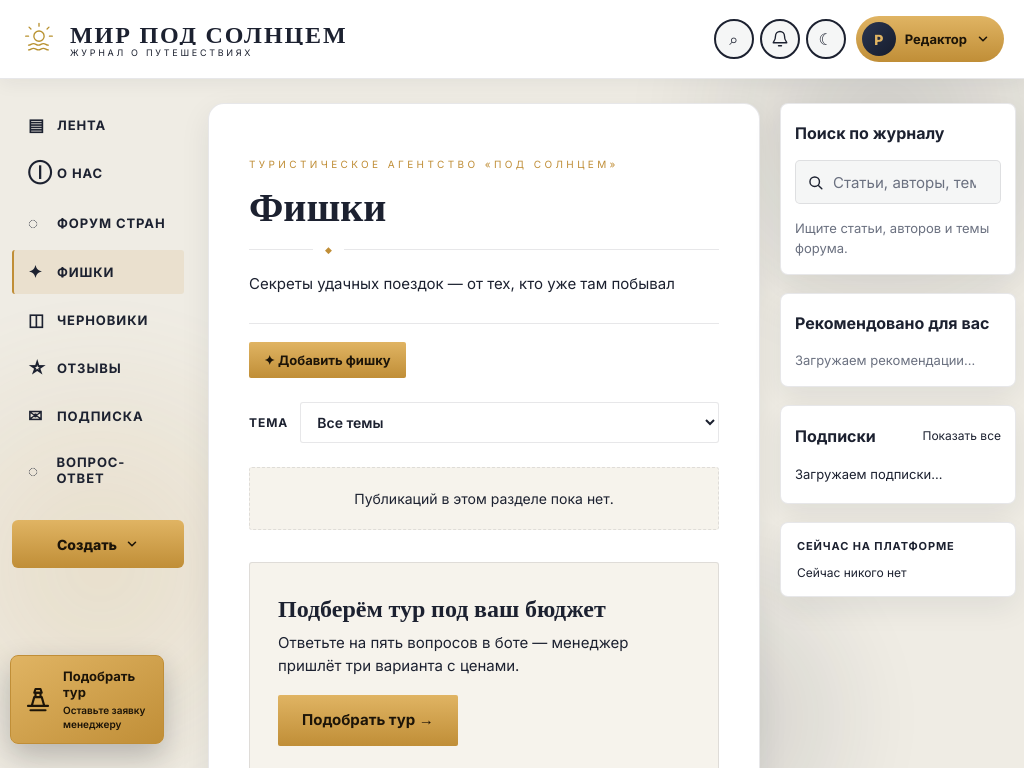
Test case: App pathname routing › offers all block emoji without removing visually similar Unicode variants
Click the button "✦ Добавить фишку" at (327, 360), box [249,342,406,378]
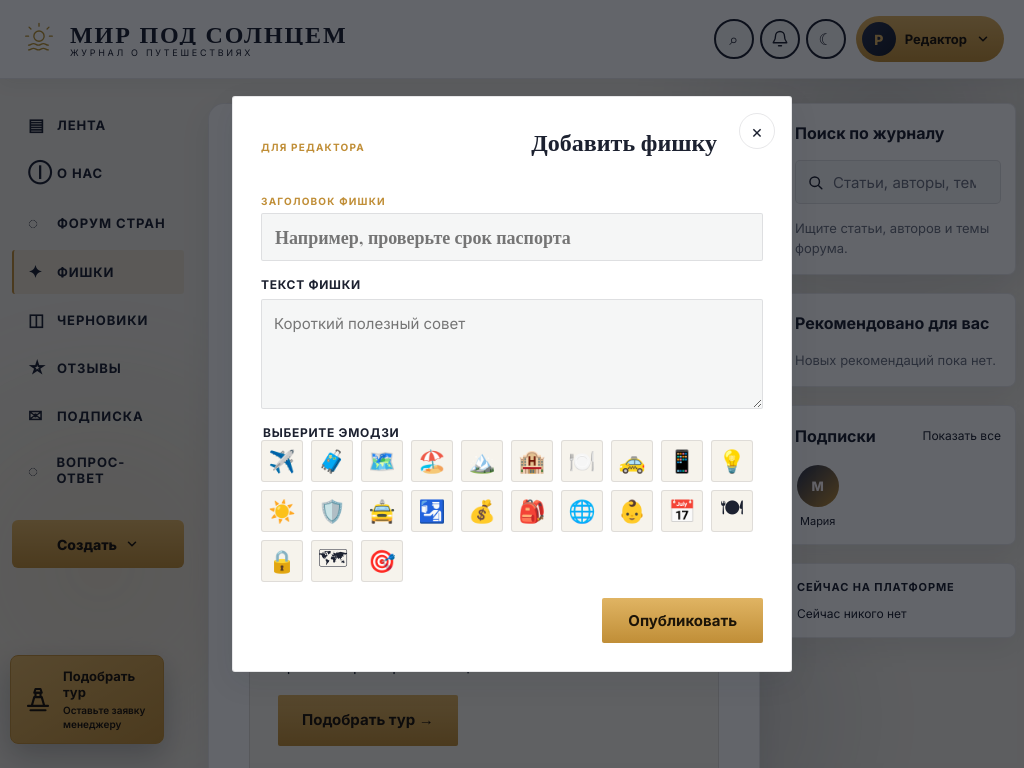
Check: the number of buttons named "Выбрать emoji" is 23
